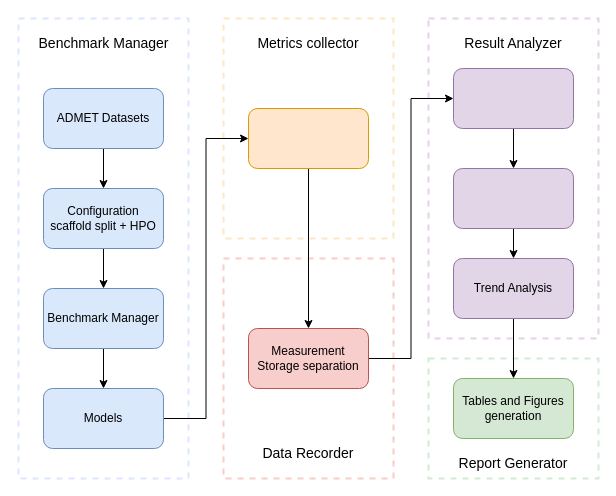
Image size: 616x496. Some labels were removed from this diagram. The box of each missing label's shape, as (x1, y1, x2, y2) in pixels:
Metrics: (248, 108, 368, 168)
Performance Analysis: (452, 168, 574, 228)
Statistical Analysis: (452, 68, 574, 128)
